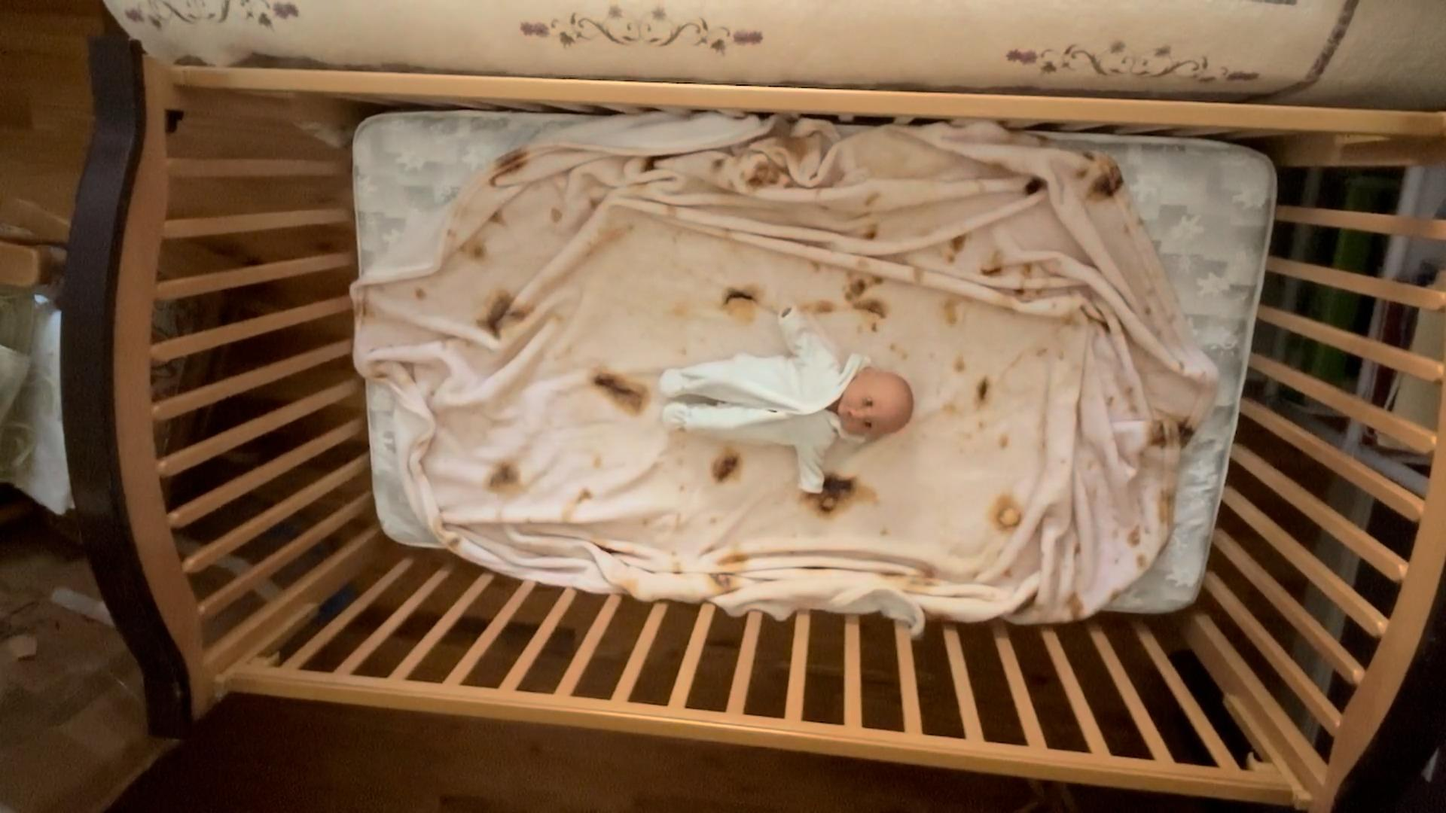baby: (658, 300, 919, 498)
